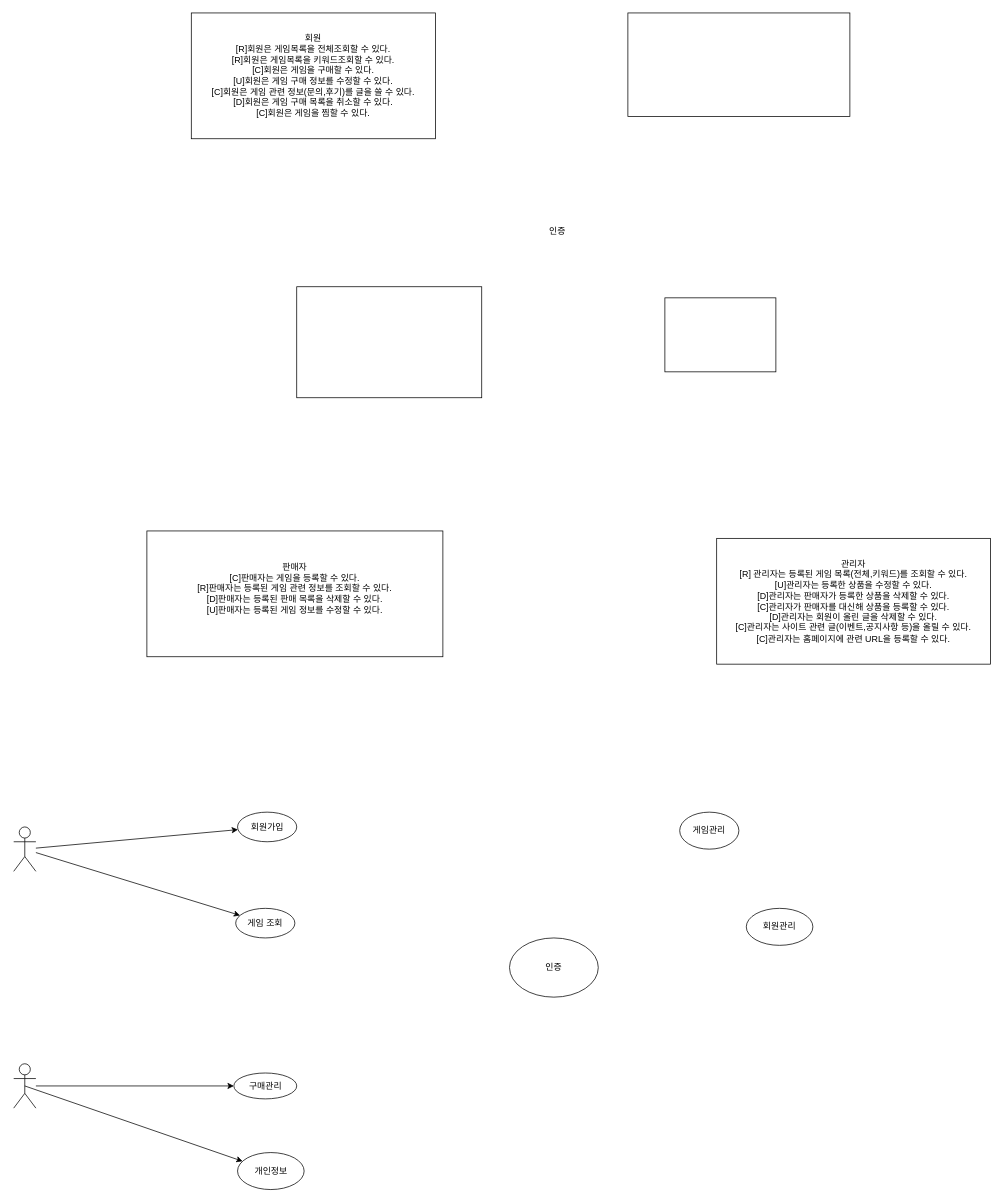
Some shapes in this 1003 by 1203 pixel diagram are drawn without their labels. Each missing label, with the centre of its shape:
"비회원" goes at (x=24, y=848).
"비회원 [R]비회원은 게임목록을 전체조회할 수 있다. [R]비회원은 게임목록을 키워드조회할 수 있다." goes at (x=738, y=64).
"비회원 회원가입 개인정보 등록" goes at (x=720, y=334).
"회원" goes at (x=24, y=1085).
"회원 개인정보 수정 마이페이지 조회 구매목록 조회 로그인 로그아웃 회원탈퇴" goes at (x=389, y=342).
